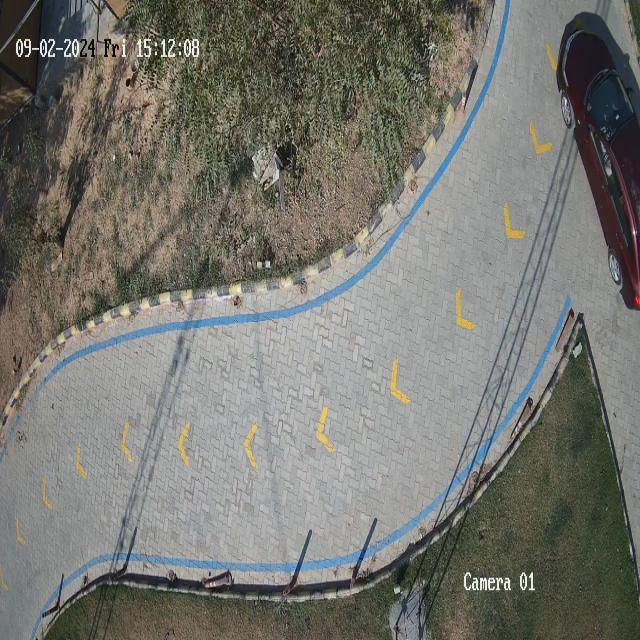car: (556, 18, 639, 307)
